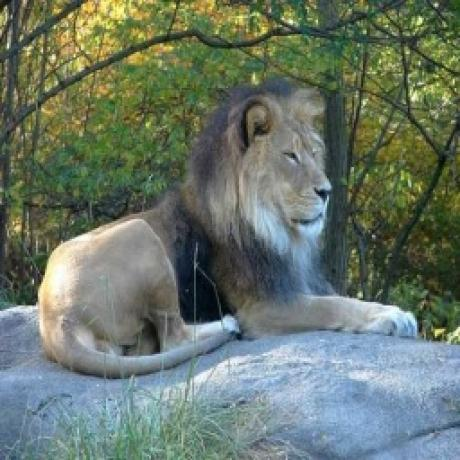Lion: (37, 68, 421, 379)
